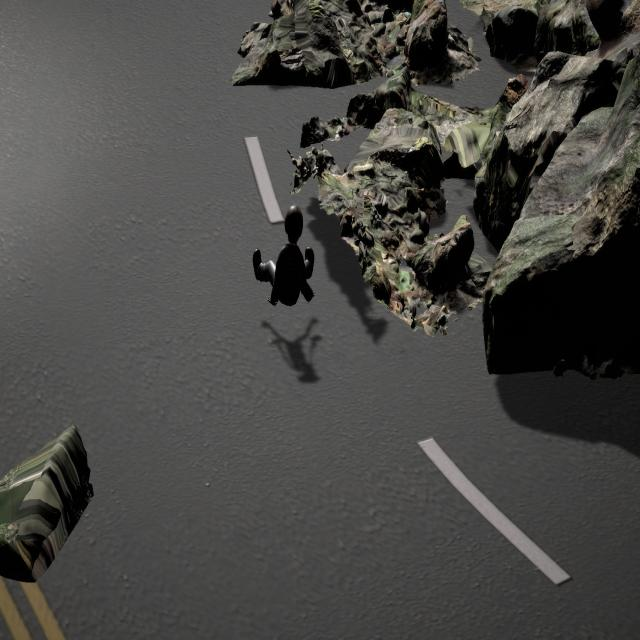Human: (246, 196, 319, 310)
